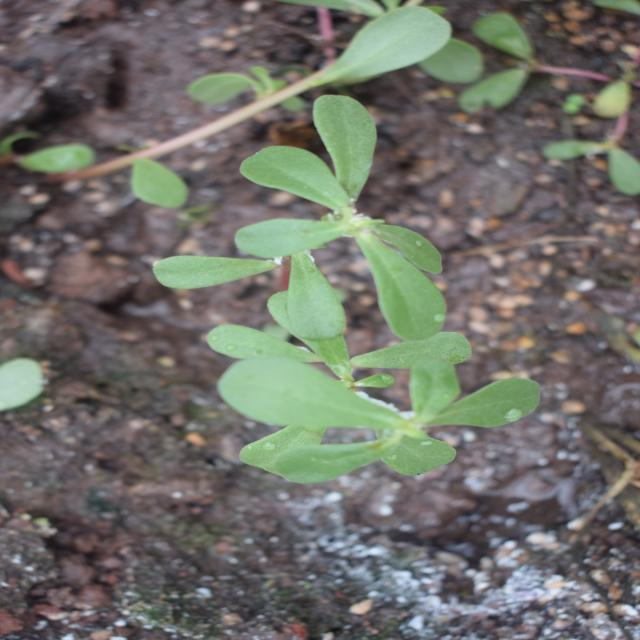purslane: (160, 144, 550, 520)
